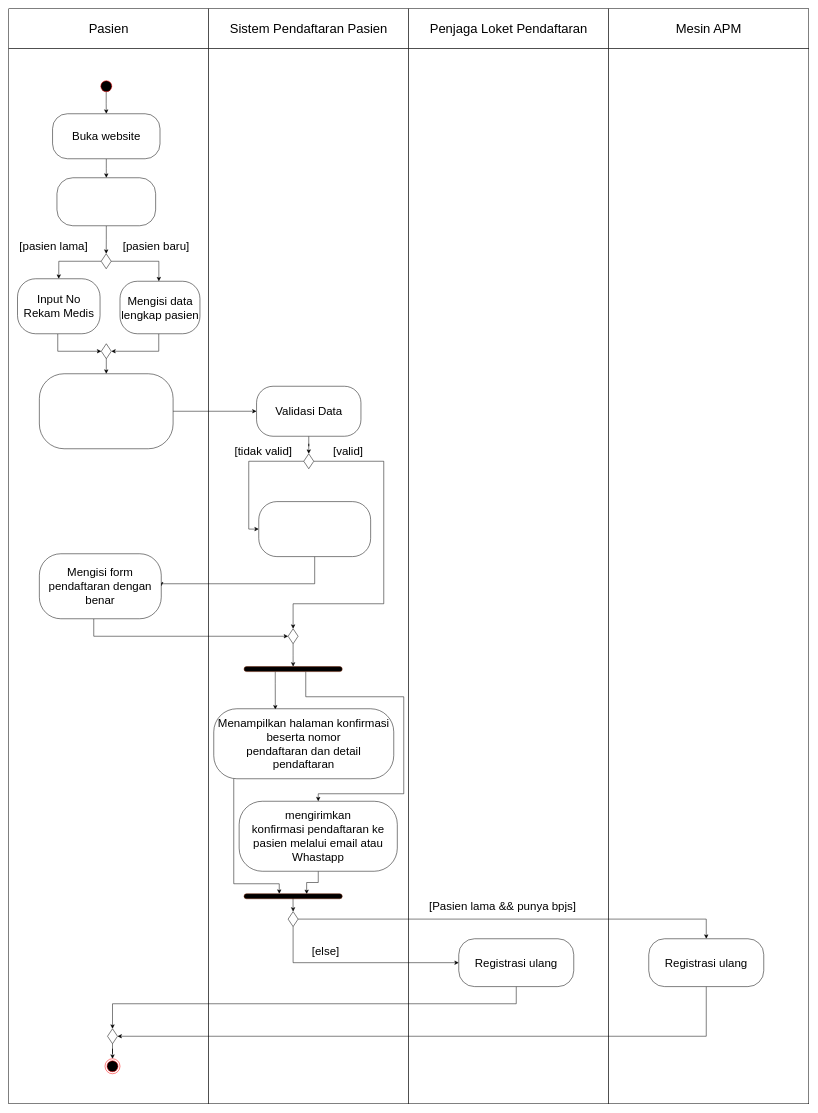
The diagram is 818 pixels wide and 1113 high, and some of its shapes have lost their labels. Here are the shapes that lost their labels. From the top down, the centre of each, then its label:
At (106,201): "Pilih pasien baru atau lama".
At (106,411): "Mengisi No Whatsapp, pilihan hari dan waktu kontrol dan dokter.".
At (314,529): "Menampilkan ulang form pendaftaran".
